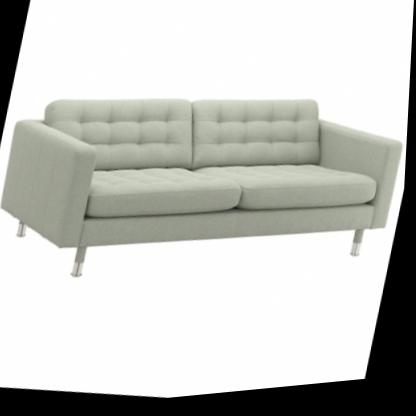Sofa: (0, 50, 413, 332)
